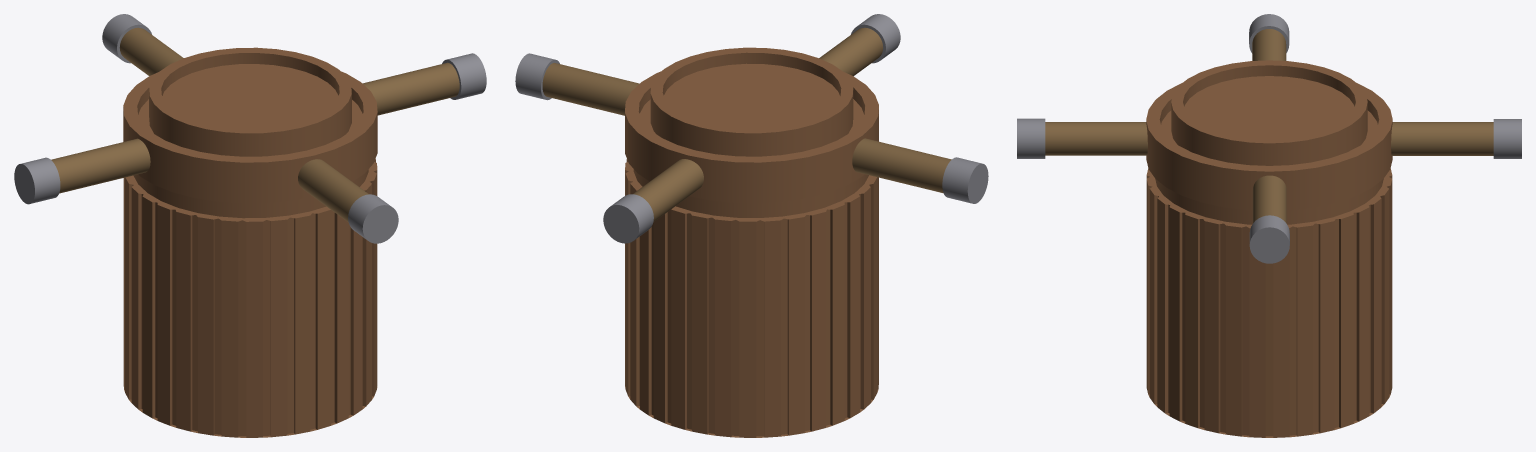
Rendered from button1.1.fbx.
The picture shows the model from 3 angles, left to right: view 1: azimuth 30°, elevation 25°; view 2: azimuth 150°, elevation 25°; view 3: azimuth 270°, elevation 25°; orthographic projection. The views are drawn at different scales.
Visible parts, largest first — view 1: pedistall, handles; view 2: pedistall, handles; view 3: pedistall, handles.
Boxes of the visible parts, <box> form: pedistall: <box>123,47,377,437</box>; handles: <box>14,14,486,243</box>; pedistall: <box>625,47,878,437</box>; handles: <box>515,14,988,243</box>; pedistall: <box>1146,60,1392,437</box>; handles: <box>1017,14,1521,263</box>.
Size of the model in its own units: 2.3 by 1.43 by 2.3.
